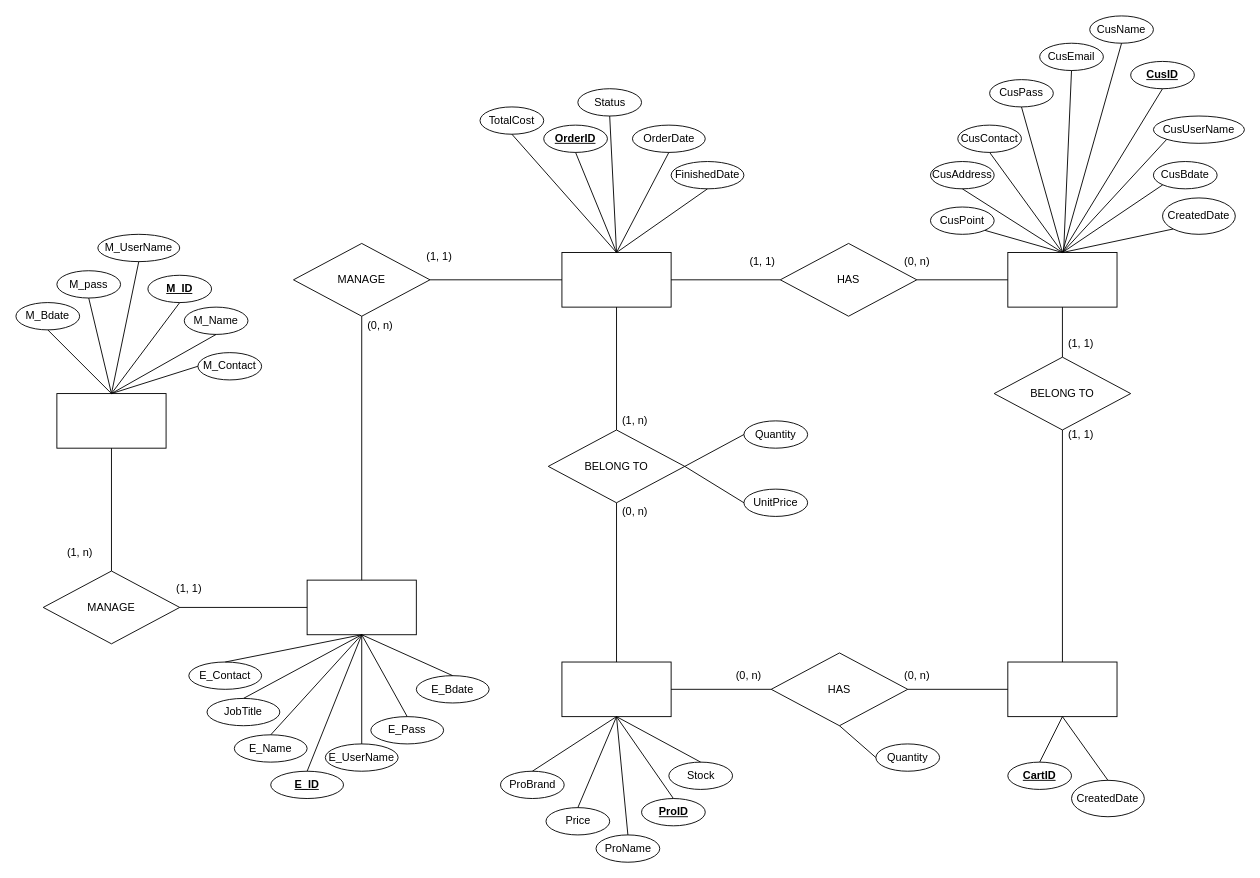
The diagram is 1260 pixels wide and 878 high, and some of its shapes have lost their labels. The shapes that lost their labels are listed below. From the top down, each one's centre as x and y in pixels, then its label:
At pixel 616 279: "Order".
At pixel 1062 279: "Customer".
At pixel 111 420: "Manager".
At pixel 361 607: "Employee".
At pixel 616 689: "Product".
At pixel 1062 689: "Cart".
